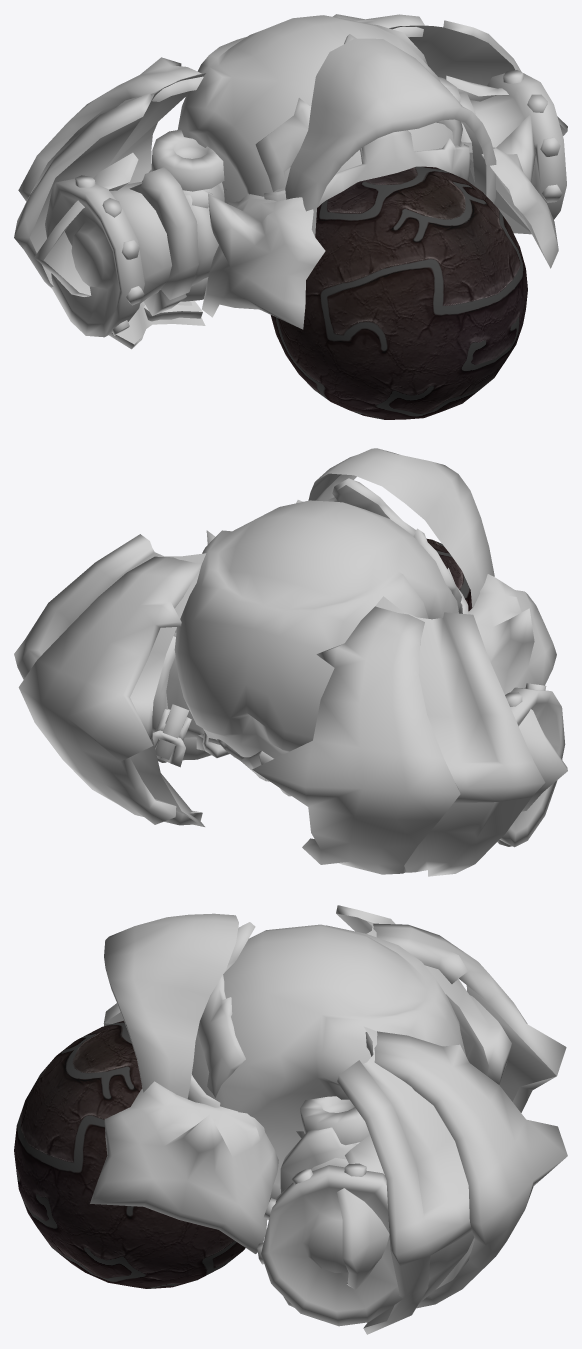
3 renders of one model, top to bottom at view 1: azimuth 30°, elevation 25°; view 2: azimuth 150°, elevation 25°; view 3: azimuth 270°, elevation 25°, orthographic. The views are drawn at different scales.
Visible parts, largest first — view 1: ironreaver01; view 2: ironreaver01; view 3: ironreaver01.
Part boxes in pixels (x1,y1,x2,y2): ironreaver01: (14, 14, 567, 419); ironreaver01: (14, 448, 567, 876); ironreaver01: (14, 905, 567, 1334).
Bounding box in the file's own units: 1.55 × 0.9442 × 1.33.
